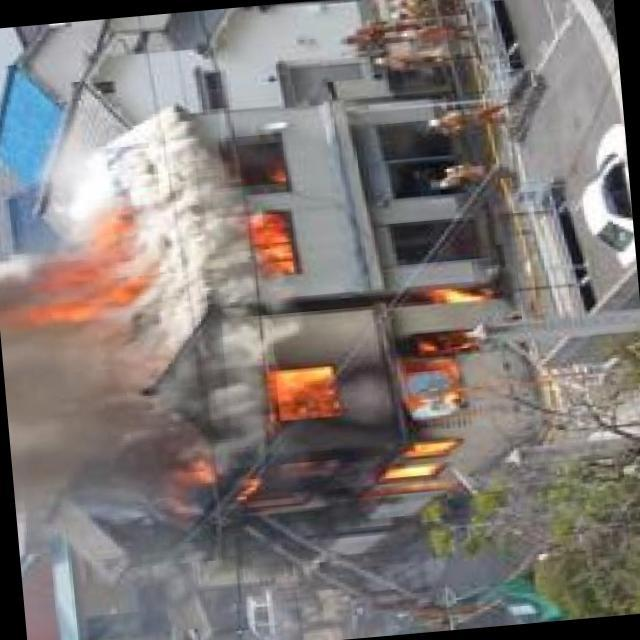Fire: (155, 280, 514, 519), (1, 207, 151, 338), (235, 158, 309, 275)
